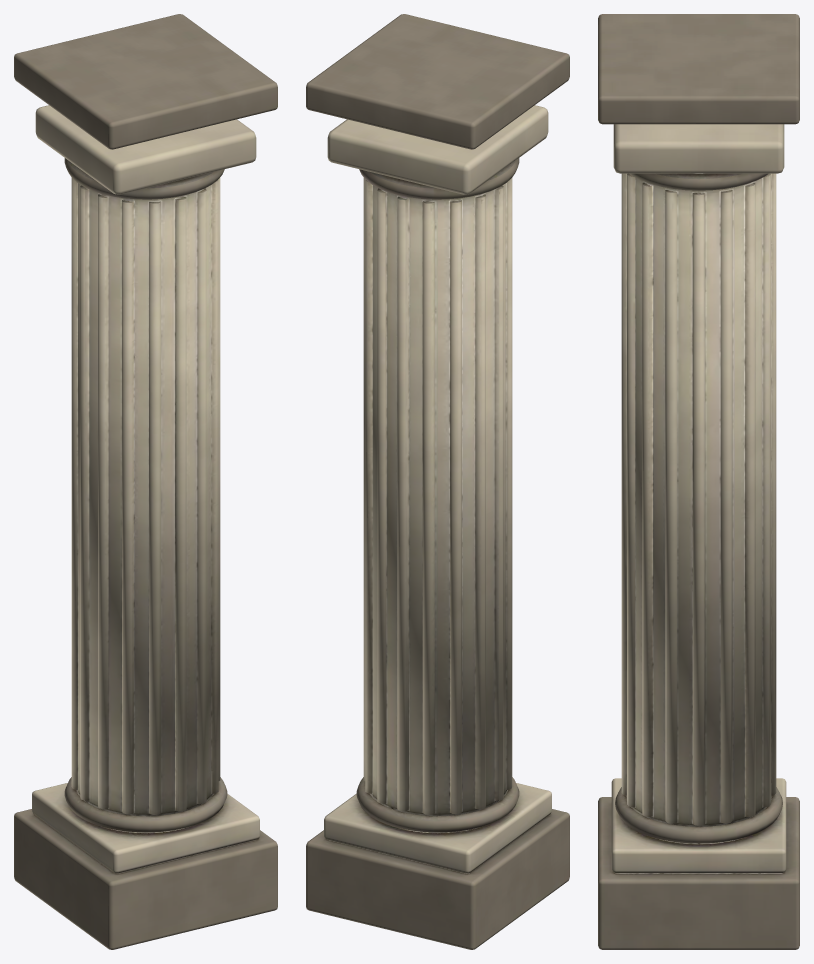
Rendered from pillar.glb.
3 renders of one model, left to right at view 1: azimuth 30°, elevation 25°; view 2: azimuth 150°, elevation 25°; view 3: azimuth 270°, elevation 25°, orthographic. The views are drawn at different scales.
Visible parts, largest first — view 1: pillar; view 2: pillar; view 3: pillar.
Boxes of the visible parts, x1,y1,x2,y2 form: pillar: [14, 14, 277, 949]; pillar: [306, 14, 569, 949]; pillar: [598, 14, 799, 949].
Size of the model in its own units: 0.8998 by 4.2 by 0.8998.
Materials: 1 (1 with a texture image).
